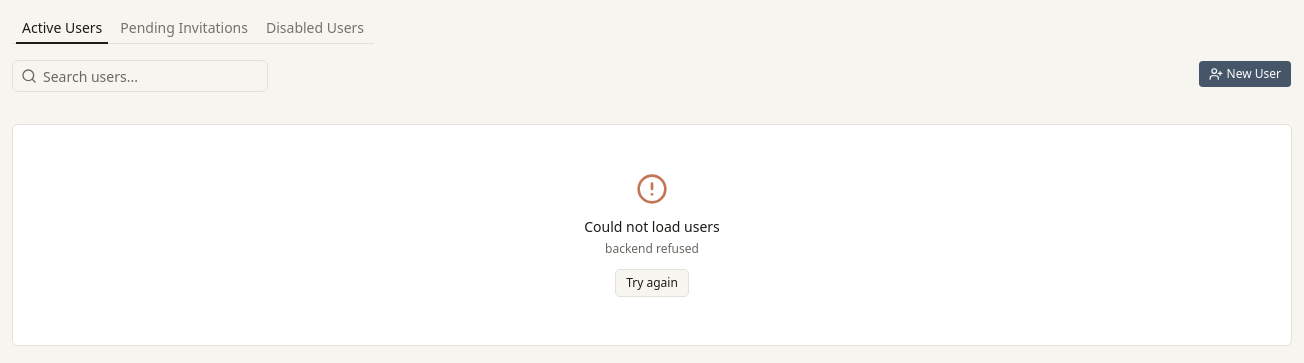
it: AdminUserList load failure › recovers from the retry button rather than needing a reload
Expected: the text "Could not load users" is shown, [584,217,720,237]
Click the button "Try again" at (652, 283), box [615,269,689,297]
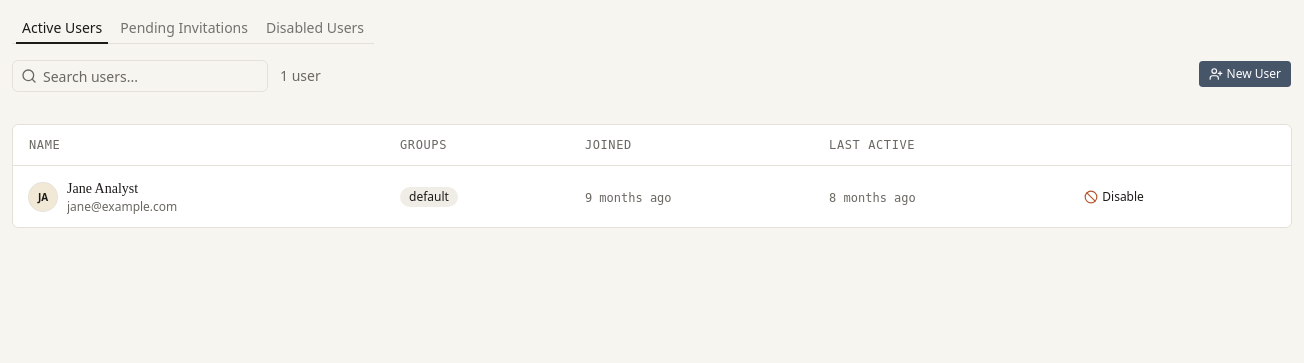
Now the link "Jane Analyst" is shown, box [67,181,138,196]
Now the text "Could not load users" is gone
Now the message reads "1 user", box [280,66,321,86]
